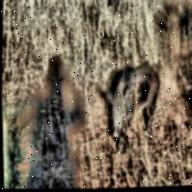boar: (85, 39, 192, 148)
